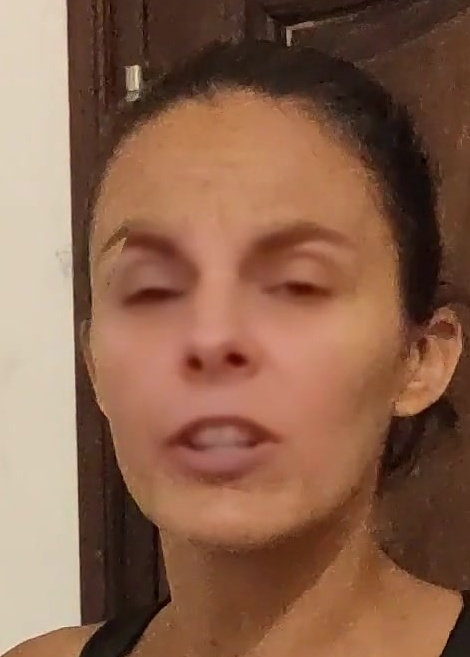eb_f: (91, 210, 368, 322)
